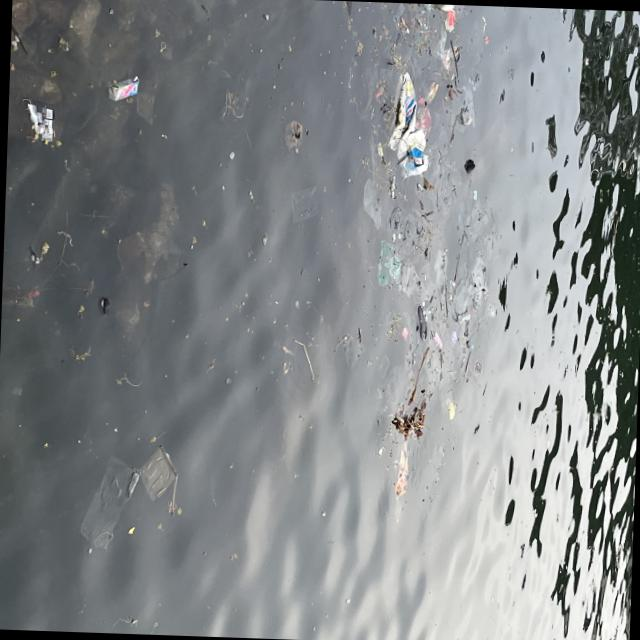plastic bag: (375, 70, 429, 176)
